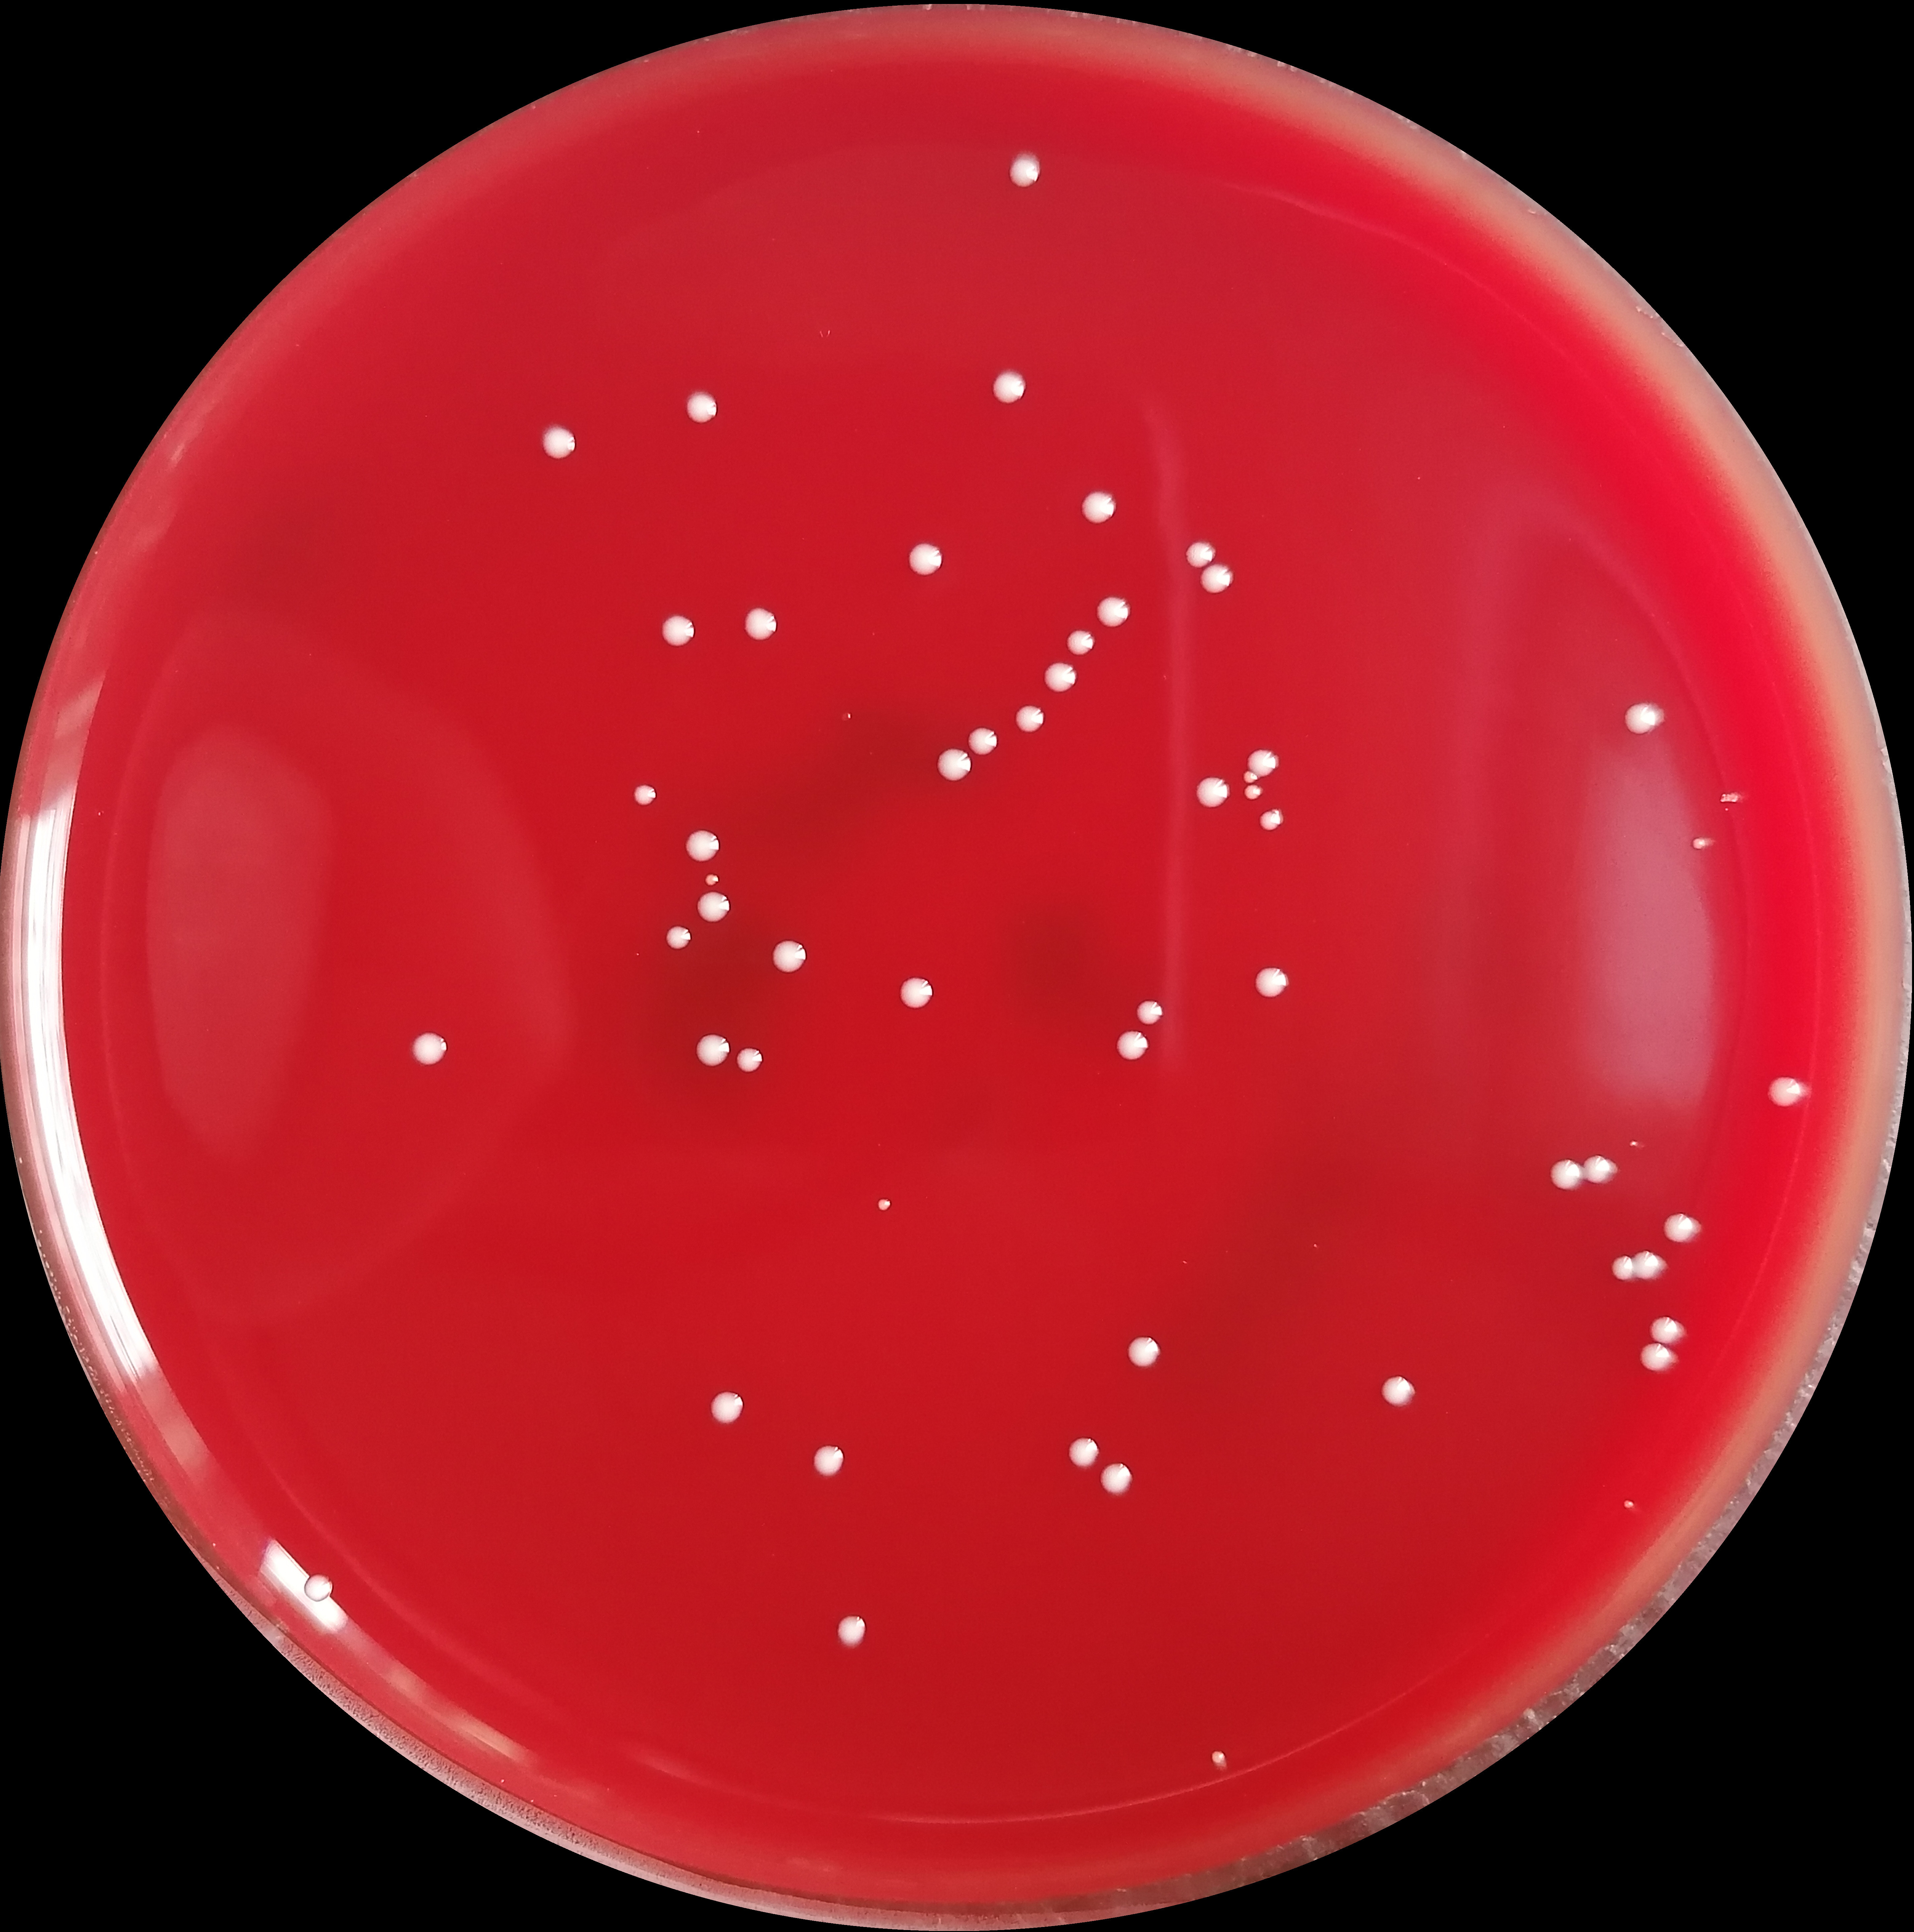sp21: (740, 603, 782, 647), (1076, 487, 1120, 528), (680, 389, 722, 428), (691, 1029, 733, 1068), (834, 1611, 871, 1655), (536, 424, 580, 459), (990, 368, 1029, 407), (659, 612, 698, 650), (769, 936, 806, 977), (412, 1029, 449, 1069), (680, 829, 722, 864), (705, 1392, 748, 1425), (1004, 153, 1043, 189), (694, 887, 731, 926), (897, 973, 934, 1012), (1097, 1460, 1136, 1497), (906, 542, 943, 579), (936, 747, 973, 784), (1623, 701, 1660, 738), (1094, 594, 1132, 629), (1767, 1075, 1805, 1110), (1039, 661, 1080, 694), (1199, 559, 1234, 596), (966, 722, 1001, 759), (812, 1443, 848, 1478), (1251, 966, 1290, 999), (1011, 701, 1046, 736), (1194, 775, 1229, 810), (1381, 1373, 1416, 1408), (1066, 1434, 1101, 1469), (1113, 1029, 1150, 1062), (1125, 1334, 1162, 1367), (1548, 1159, 1583, 1192), (1579, 1154, 1614, 1187), (1662, 1211, 1697, 1245), (1637, 1339, 1670, 1374), (1246, 747, 1280, 780), (301, 1571, 335, 1604), (1183, 538, 1218, 570), (1648, 1315, 1683, 1346), (1630, 1248, 1660, 1283), (1064, 628, 1097, 657), (1134, 998, 1164, 1027), (664, 924, 692, 952), (736, 1045, 764, 1073), (1257, 806, 1285, 833), (631, 782, 657, 806), (1611, 1254, 1634, 1282), (1241, 780, 1264, 805), (1719, 789, 1742, 810), (703, 871, 720, 891), (1209, 1748, 1229, 1764), (1691, 836, 1709, 852), (876, 1196, 894, 1211), (1241, 768, 1257, 784), (1623, 1499, 1634, 1511)
